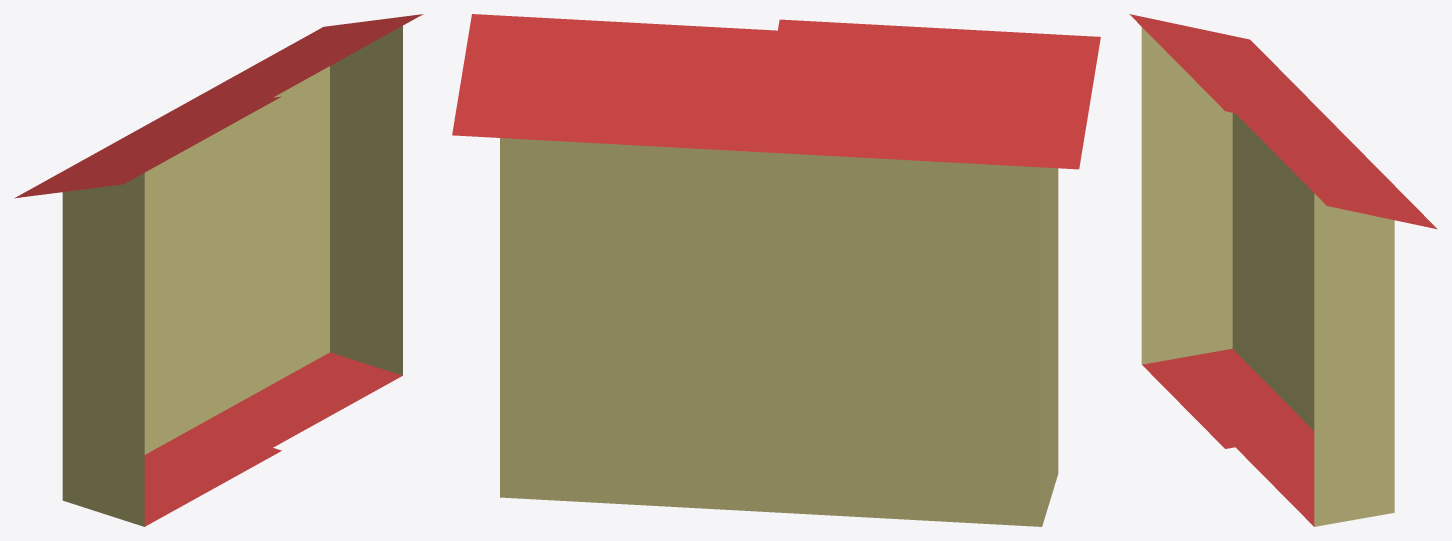
3 views of the same model, side by side, from view 1: azimuth 30°, elevation 25°; view 2: azimuth 150°, elevation 25°; view 3: azimuth 270°, elevation 25° (orthographic). The views are drawn at different scales.
Size of the model in its own units: 11.24 by 7.01 by 8.46.
